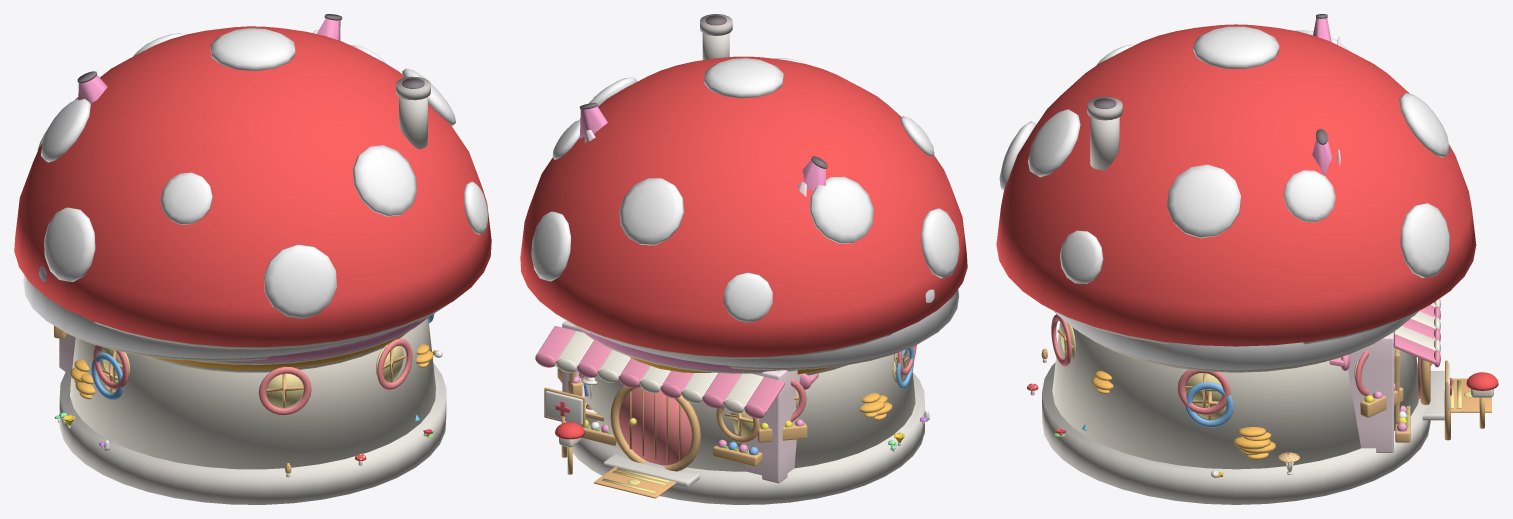
Rendered from town.glb.
The picture shows the model from 3 angles, left to right: view 1: azimuth 30°, elevation 25°; view 2: azimuth 150°, elevation 25°; view 3: azimuth 270°, elevation 25°; orthographic projection. The views are drawn at different scales.
Visible parts, largest first — view 1: PlayerHouse, Clinic, MillieHouse, House0; view 2: PlayerHouse, ClothingShop, Clinic, MillieHouse; view 3: PlayerHouse, Clinic, ClothingShop, MillieHouse.
Part boxes in pixels (x1,y1,x2,y2): PlayerHouse: [14, 26, 491, 504]; Clinic: [23, 266, 449, 459]; MillieHouse: [77, 14, 428, 364]; House0: [142, 331, 408, 372]; PlayerHouse: [520, 14, 967, 504]; ClothingShop: [535, 321, 800, 483]; Clinic: [544, 289, 959, 486]; MillieHouse: [579, 103, 827, 373]; PlayerHouse: [996, 24, 1498, 504]; Clinic: [1056, 312, 1460, 477]; ClothingShop: [1348, 298, 1440, 452]; MillieHouse: [1054, 14, 1418, 316].
Bounding box in the file's own units: 12.58 × 11.09 × 13.06.
